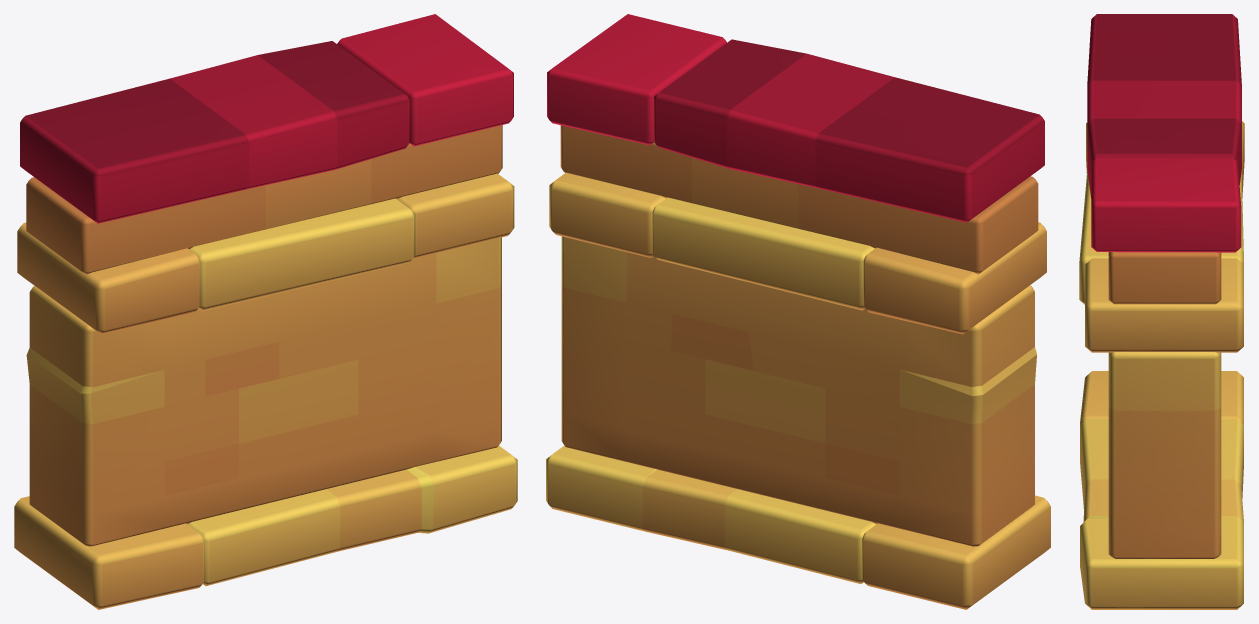
File: wall_mid_double.fbx
The picture shows the model from 3 angles, left to right: view 1: azimuth 30°, elevation 25°; view 2: azimuth 150°, elevation 25°; view 3: azimuth 270°, elevation 25°; orthographic projection. The views are drawn at different scales.
Visible parts, largest first — view 1: wall_mid_double2; view 2: wall_mid_double2; view 3: wall_mid_double2.
Boxes of the visible parts, <box> form: wall_mid_double2: <box>14,14,517,609</box>; wall_mid_double2: <box>546,14,1050,609</box>; wall_mid_double2: <box>1079,14,1244,609</box>.
Bounding box in the file's own units: 406 × 403 × 146.
